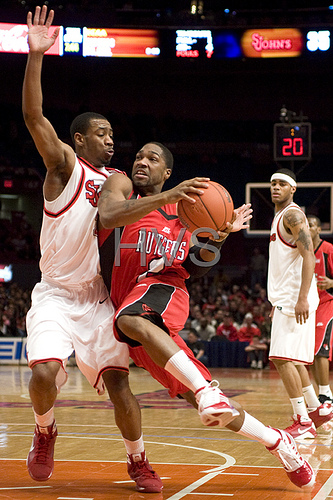basketball: (176, 180, 232, 236)
